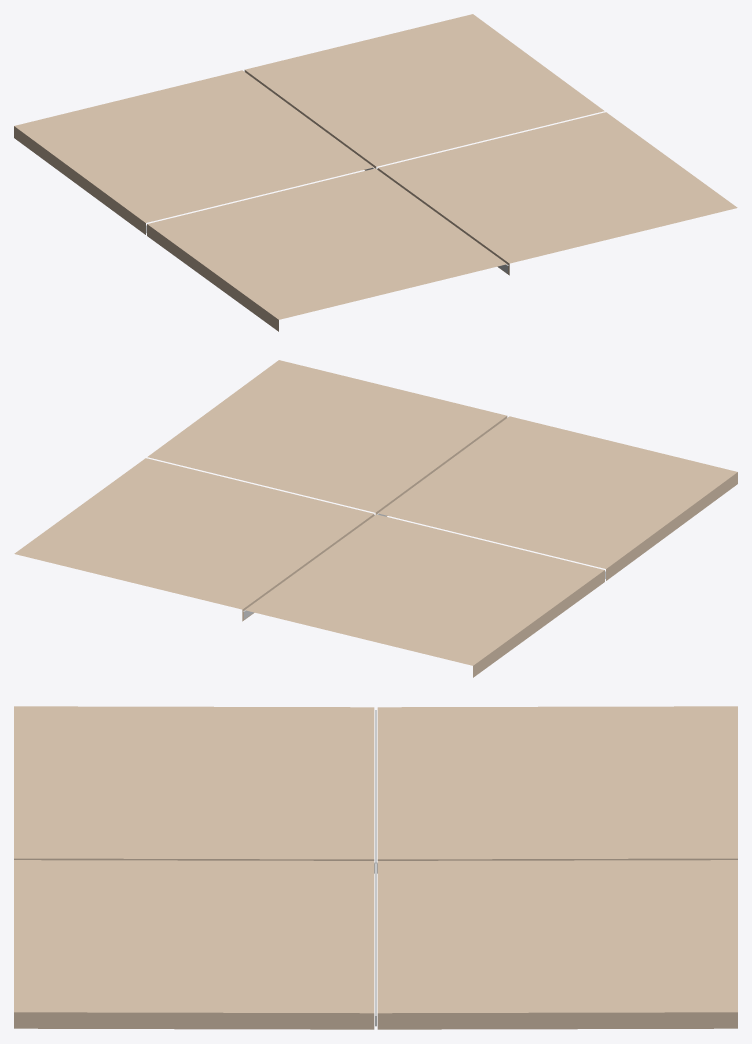
Rendered from ext_paving_plaza_03.glb.
The picture shows the model from 3 angles, top to bottom: view 1: azimuth 30°, elevation 25°; view 2: azimuth 150°, elevation 25°; view 3: azimuth 270°, elevation 25°; orthographic projection. The views are drawn at different scales.
Visible parts, largest first — view 1: Pavers; view 2: Pavers; view 3: Pavers, Inlay.
Boxes of the visible parts, x1,y1,x2,y2 form: Pavers: (14, 14, 737, 331); Pavers: (14, 360, 737, 677); Pavers: (14, 706, 737, 1029); Inlay: (374, 710, 377, 1026).
Bounding box in the file's own units: 1.99 × 0.0527 × 1.99.
